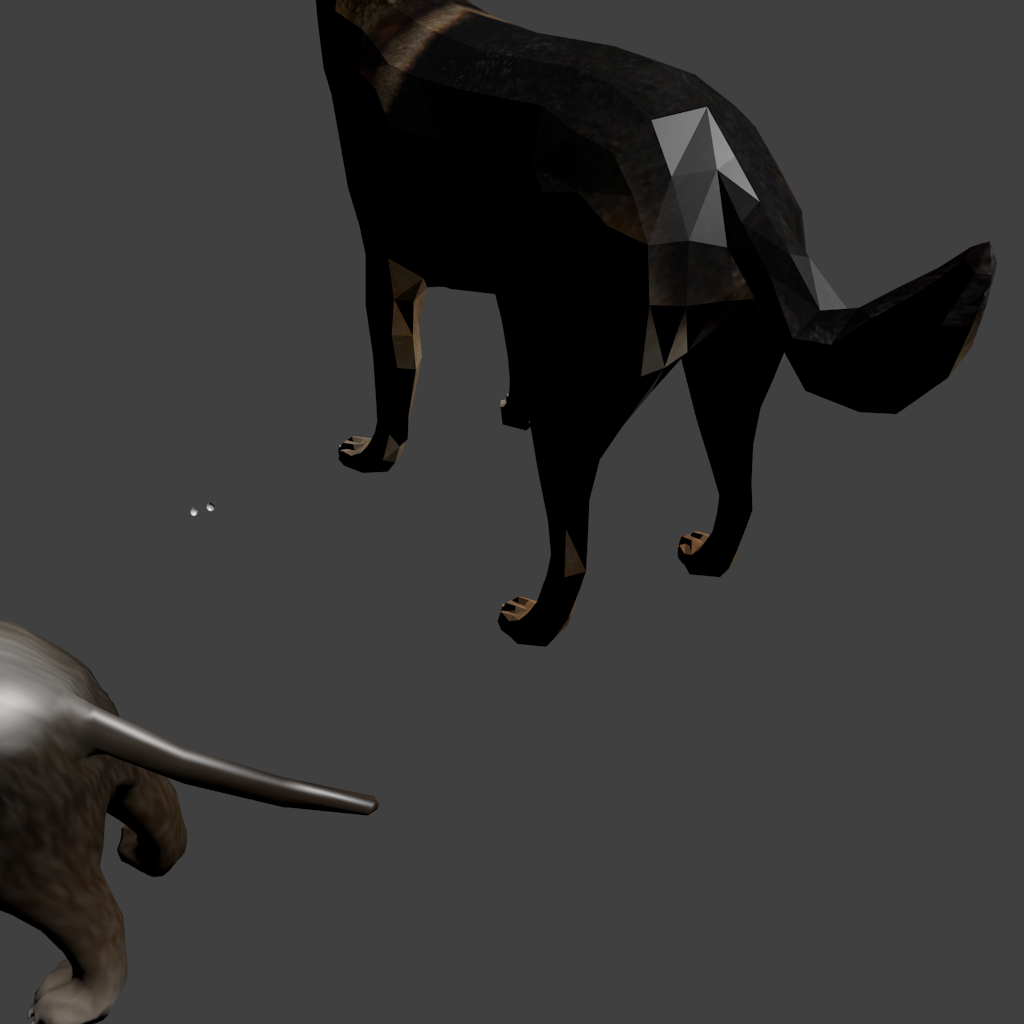Dog: (291, 0, 707, 647)
